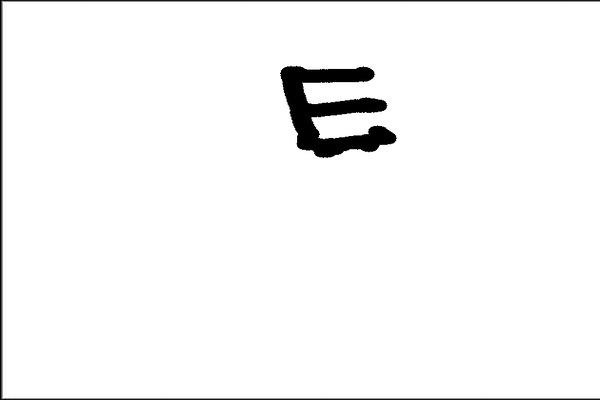E: (272, 56, 399, 161)
